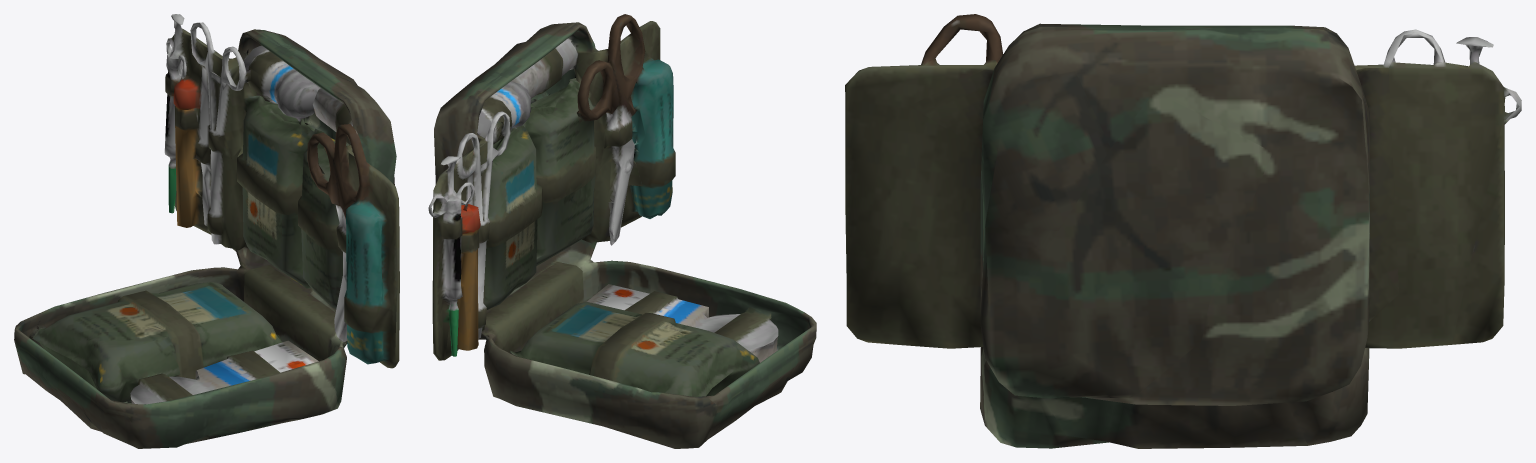
Rendered from Med Kit.fbx.
The picture shows the model from 3 angles, left to right: view 1: azimuth 30°, elevation 25°; view 2: azimuth 150°, elevation 25°; view 3: azimuth 270°, elevation 25°; orthographic projection. The views are drawn at different scales.
Visible parts, largest first — view 1: Med Kit; view 2: Med Kit; view 3: Med Kit.
Part boxes in pixels (x1=…): Med Kit: x1=14, y1=14, x2=399, y2=448; Med Kit: x1=428, y1=14, x2=816, y2=448; Med Kit: x1=845, y1=14, x2=1521, y2=448.
Size of the model in its own units: 99.54 by 103 by 139.
